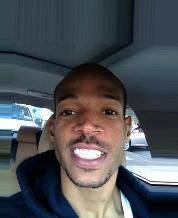face: (58, 94, 119, 168)
